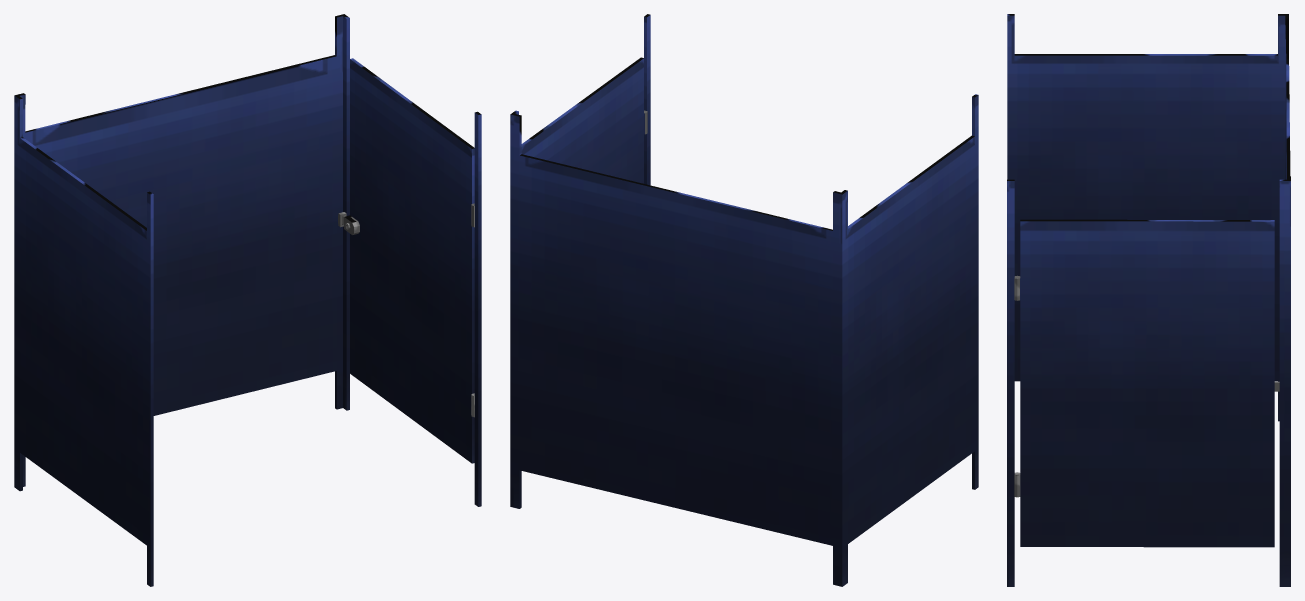
The model's file is stall_closed_R.obj.
3 views of the same model, side by side, from view 1: azimuth 30°, elevation 25°; view 2: azimuth 150°, elevation 25°; view 3: azimuth 270°, elevation 25° (orthographic). The views are drawn at different scales.
Parts seen in each view (by area): view 1: stall_closed_R; view 2: stall_closed_R; view 3: stall_closed_R.
Part boxes in pixels (x1,y1,x2,y2): stall_closed_R: (14,14,481,586); stall_closed_R: (510,14,978,586); stall_closed_R: (1007,14,1290,586).
Bounding box in the file's own units: 2.13 × 2.4 × 1.52.
